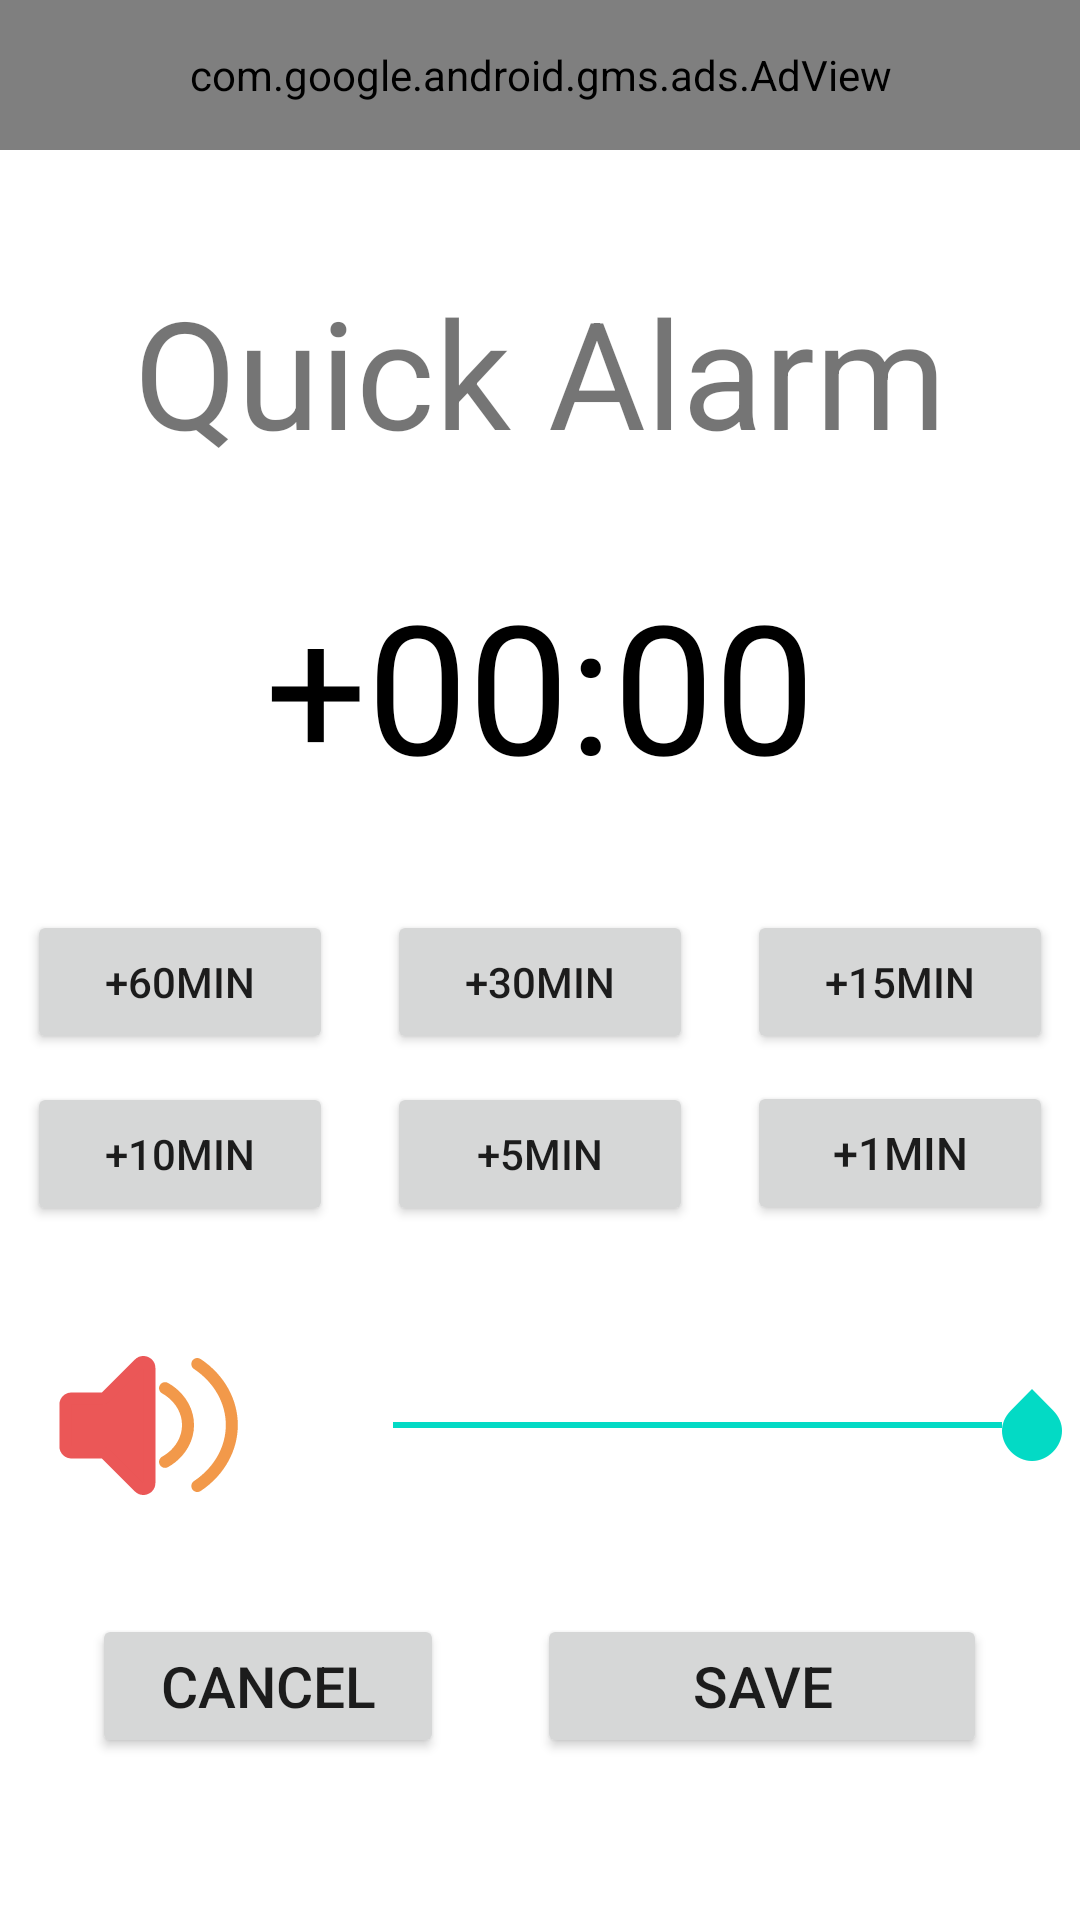

Icons on this 1080 × 1920 Android screen, each with the point to tap as (x=x, y=y):
volume: (x=148, y=1425)
